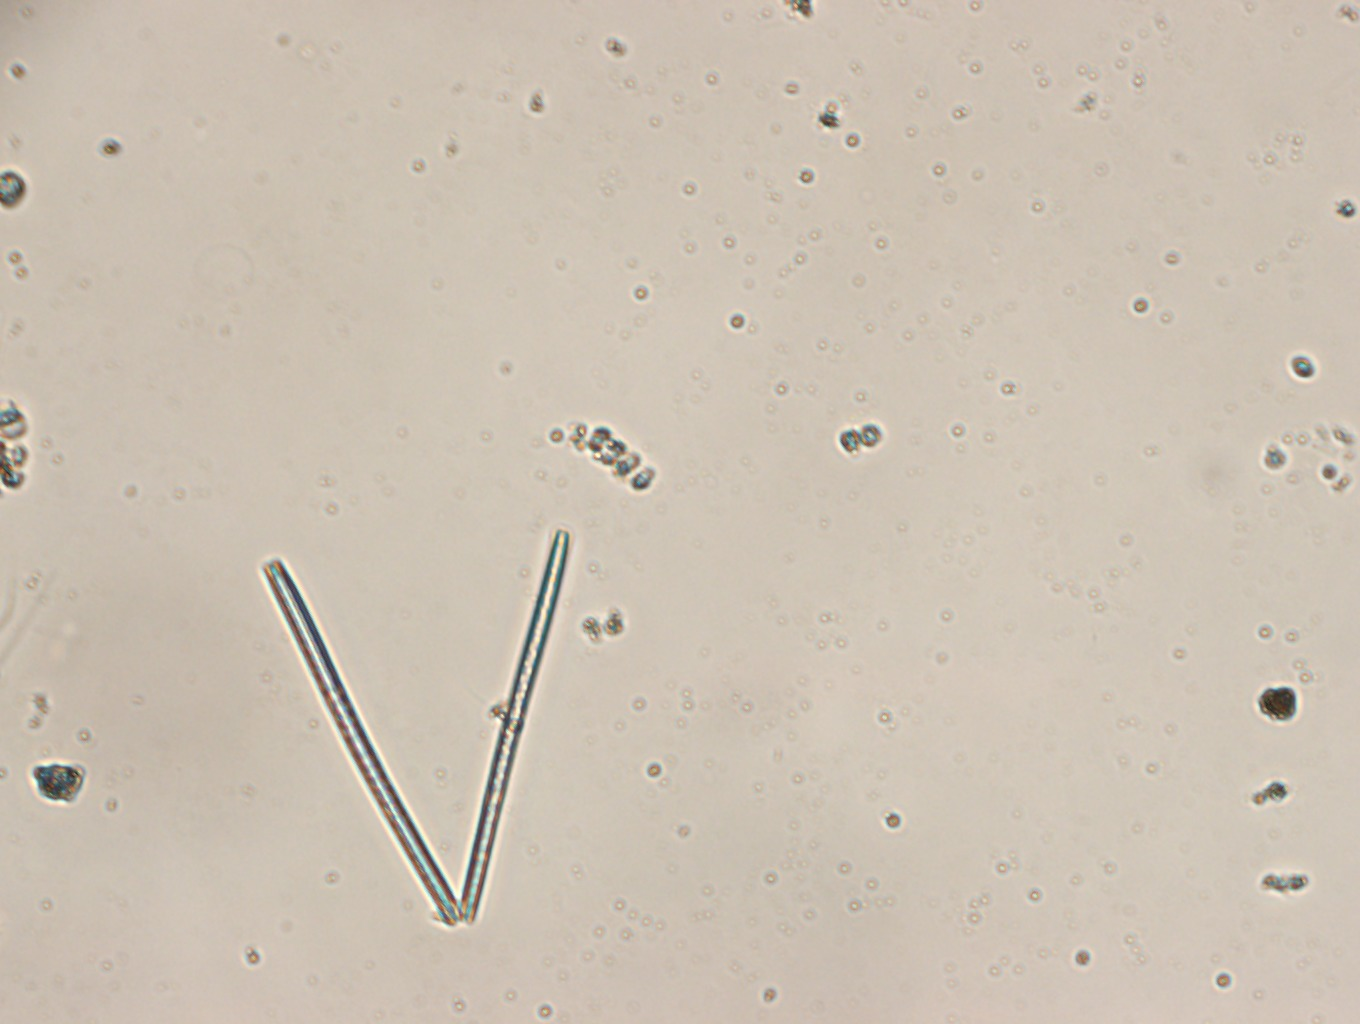thalassionema frauenfeldii: (253, 517, 573, 934)
